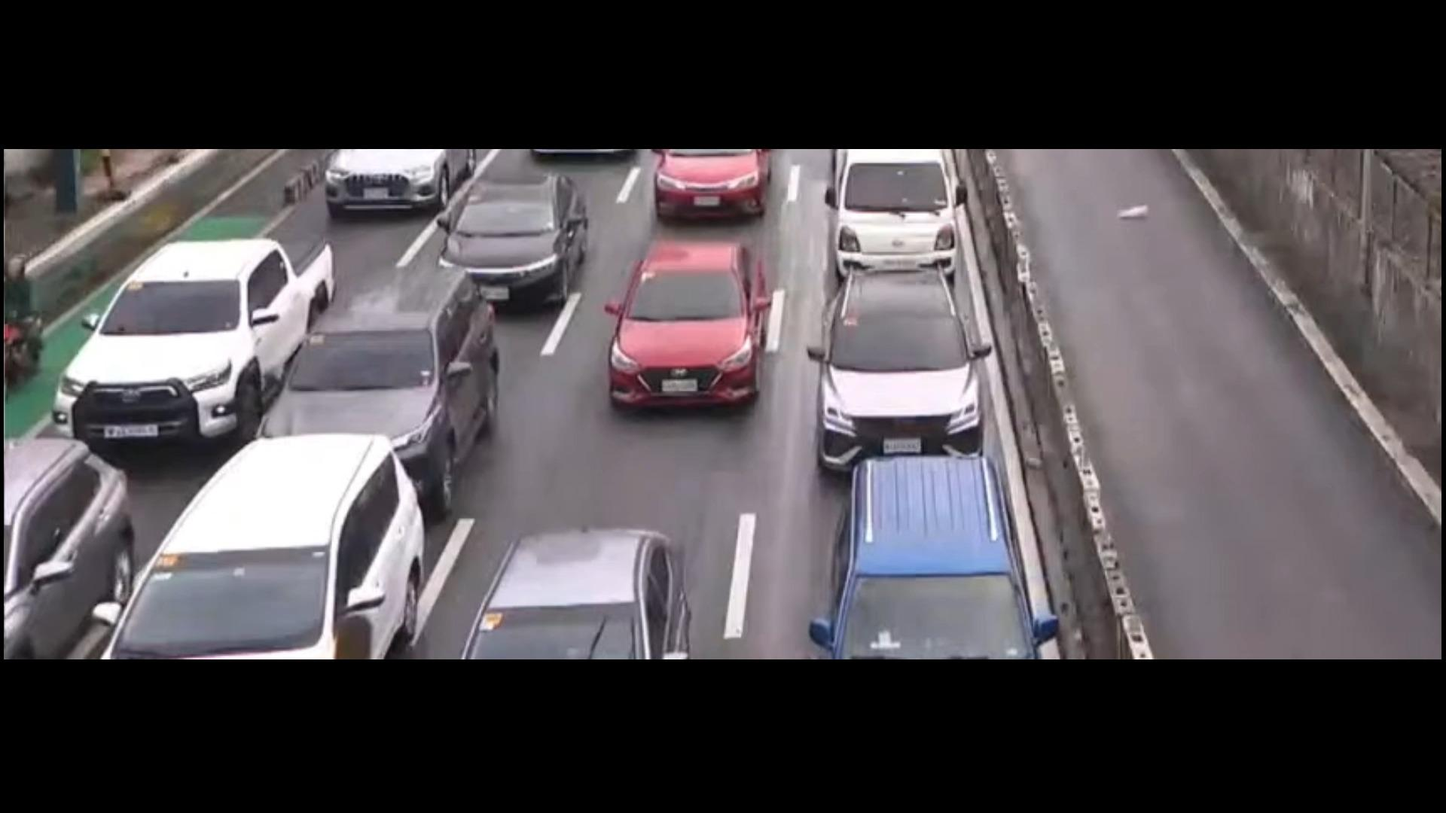Motorcycle: (0, 249, 55, 388)
Pickup: (50, 204, 360, 477)
SUV: (108, 424, 435, 668), (256, 243, 533, 472), (816, 450, 1060, 659), (806, 251, 1010, 481)
Sedan: (459, 512, 737, 657), (584, 239, 787, 424), (408, 149, 609, 299)
